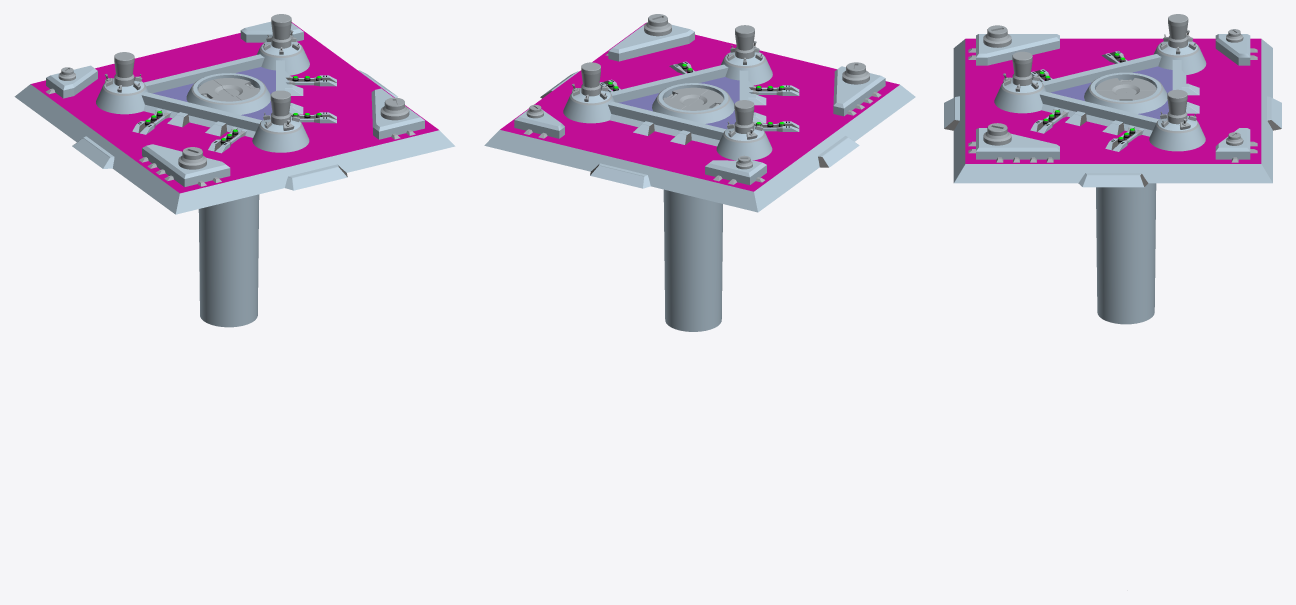
The model's file is Maaker4.fbx.
3 views of the same model, side by side, from view 1: azimuth 30°, elevation 25°; view 2: azimuth 150°, elevation 25°; view 3: azimuth 270°, elevation 25° (orthographic). The views are drawn at different scales.
Visible parts, largest first — view 1: foundation_12, hole_base, boots, base, _pillar3, _pillar1, _pillar2, deets, door; view 2: foundation_12, hole_base, boots, base, _pillar1, _pillar2, deets, _pillar3, door; view 3: foundation_12, hole_base, boots, base, _pillar2, deets, _pillar3, _pillar1, door (×2), railstock3.
Part boxes in pixels (left/top/right/bottom): foundation_12: left=14, top=22, right=455, bottom=214; hole_base: left=186, top=73, right=270, bottom=327; boots: left=46, top=21, right=424, bottom=190; base: left=141, top=54, right=289, bottom=137; _pillar3: left=252, top=90, right=309, bottom=152; _pillar1: left=96, top=52, right=148, bottom=114; _pillar2: left=256, top=14, right=309, bottom=75; deets: left=46, top=67, right=415, bottom=186; door: left=214, top=78, right=259, bottom=100; foundation_12: left=484, top=22, right=915, bottom=212; hole_base: left=652, top=83, right=734, bottom=331; boots: left=514, top=22, right=885, bottom=188; base: left=608, top=64, right=752, bottom=146; _pillar1: left=716, top=100, right=772, bottom=160; _pillar2: left=563, top=62, right=614, bottom=123; deets: left=523, top=14, right=881, bottom=184; _pillar3: left=721, top=25, right=772, bottom=85; door: left=663, top=87, right=708, bottom=109; foundation_12: left=953, top=38, right=1272, bottom=183; hole_base: left=1084, top=72, right=1167, bottom=324; boots: left=944, top=34, right=1281, bottom=187; base: left=1039, top=54, right=1186, bottom=136; _pillar2: left=1149, top=89, right=1205, bottom=151; deets: left=968, top=25, right=1257, bottom=162; _pillar3: left=994, top=51, right=1046, bottom=113; _pillar1: left=1153, top=14, right=1206, bottom=74; door (×2): left=1095, top=78, right=1156, bottom=100; railstock3: left=1105, top=126, right=1144, bottom=151.
Size of the model in its own units: 517 by 897 by 517.
